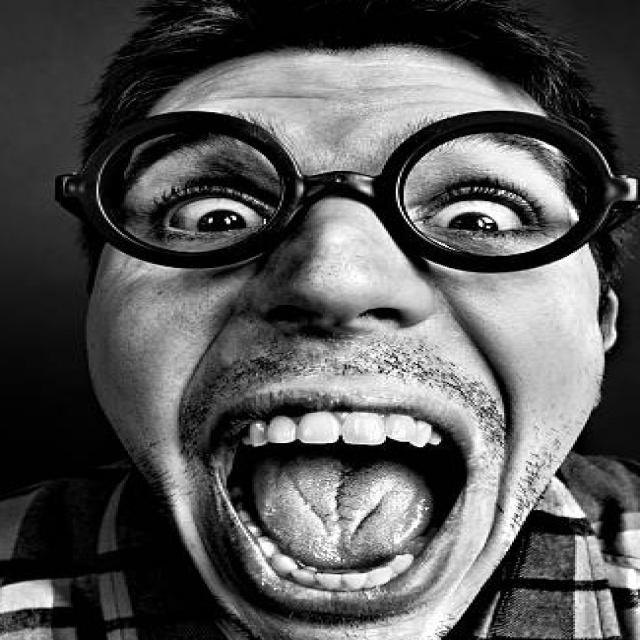Anxiety: (81, 46, 608, 639)
